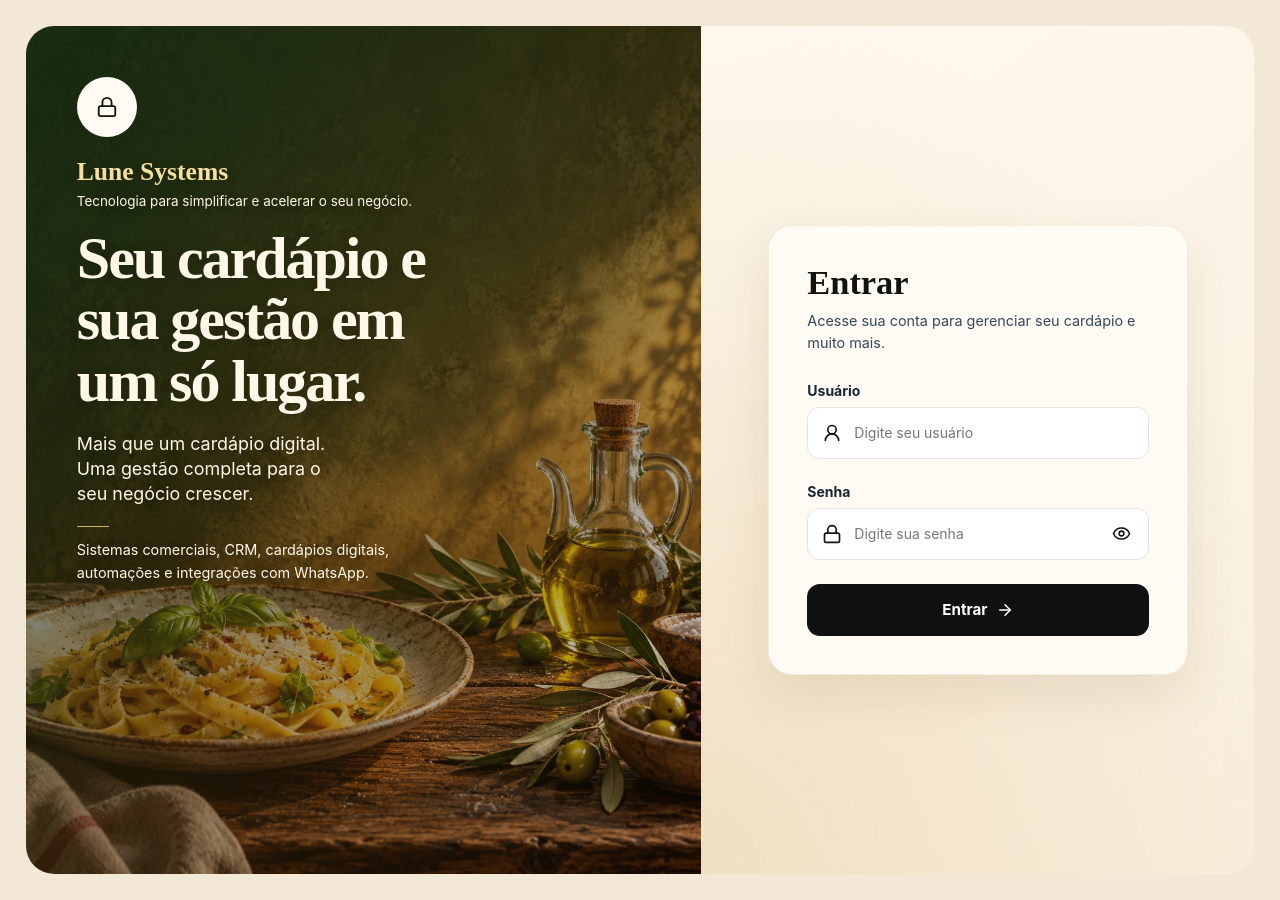
Test: login interface › shows Lune Systems and preserves labeled fields and back navigation
The image size is (1280, 900).
Expected: the text "Lune Systems" is shown, [77, 157, 228, 186]
Expected: the heading "Seu cardápio e sua gestão em um só lugar." is shown, [77, 224, 425, 414]
Click the button named "Voltar". click: (107, 107)
box: [77, 77, 137, 137]
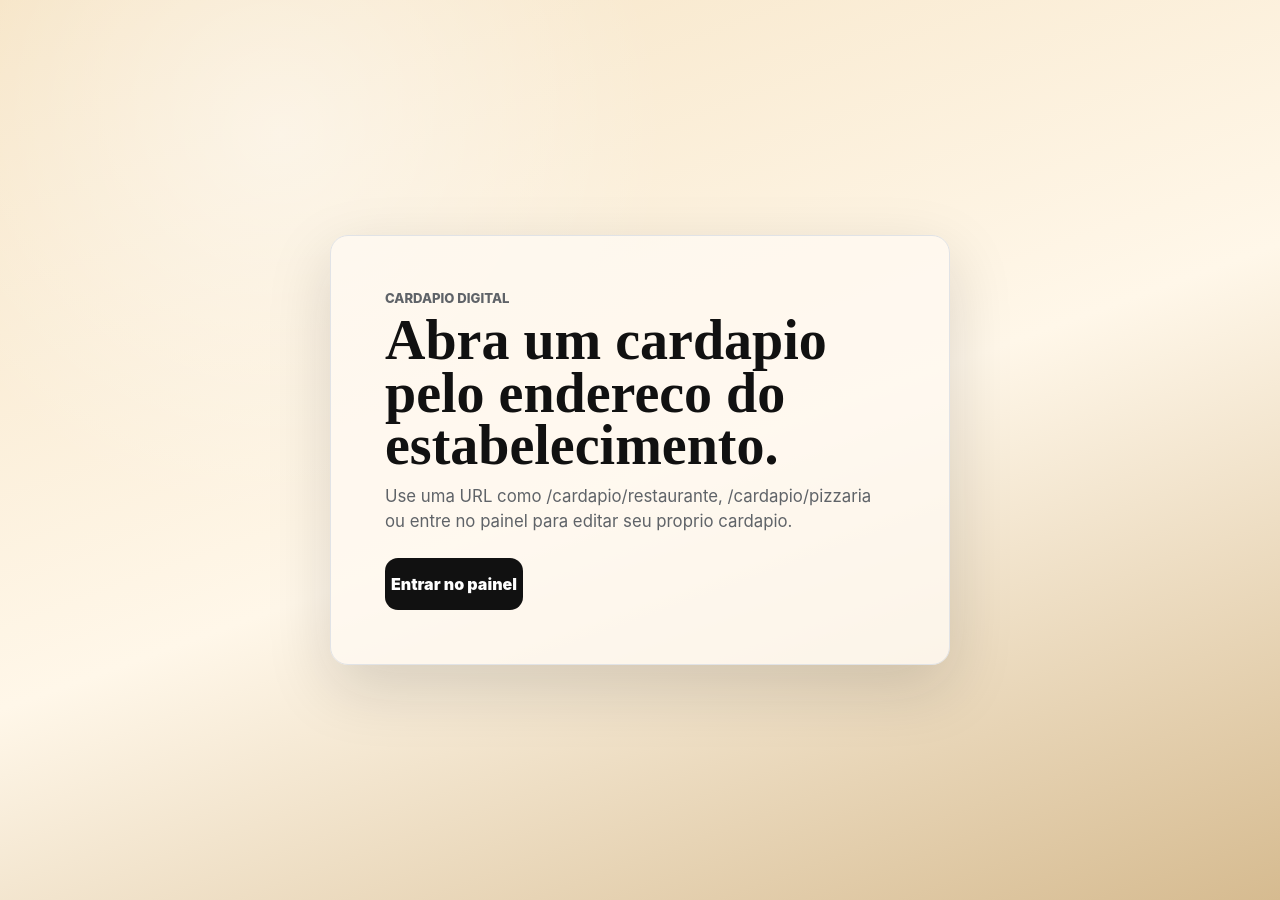
Now the button "Entrar no painel" is shown, box [385, 558, 523, 610]
